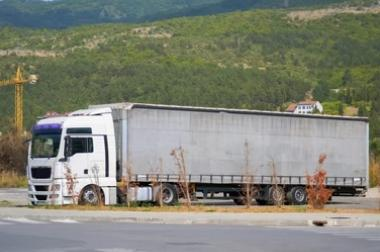vehicle: (22, 102, 370, 205)
